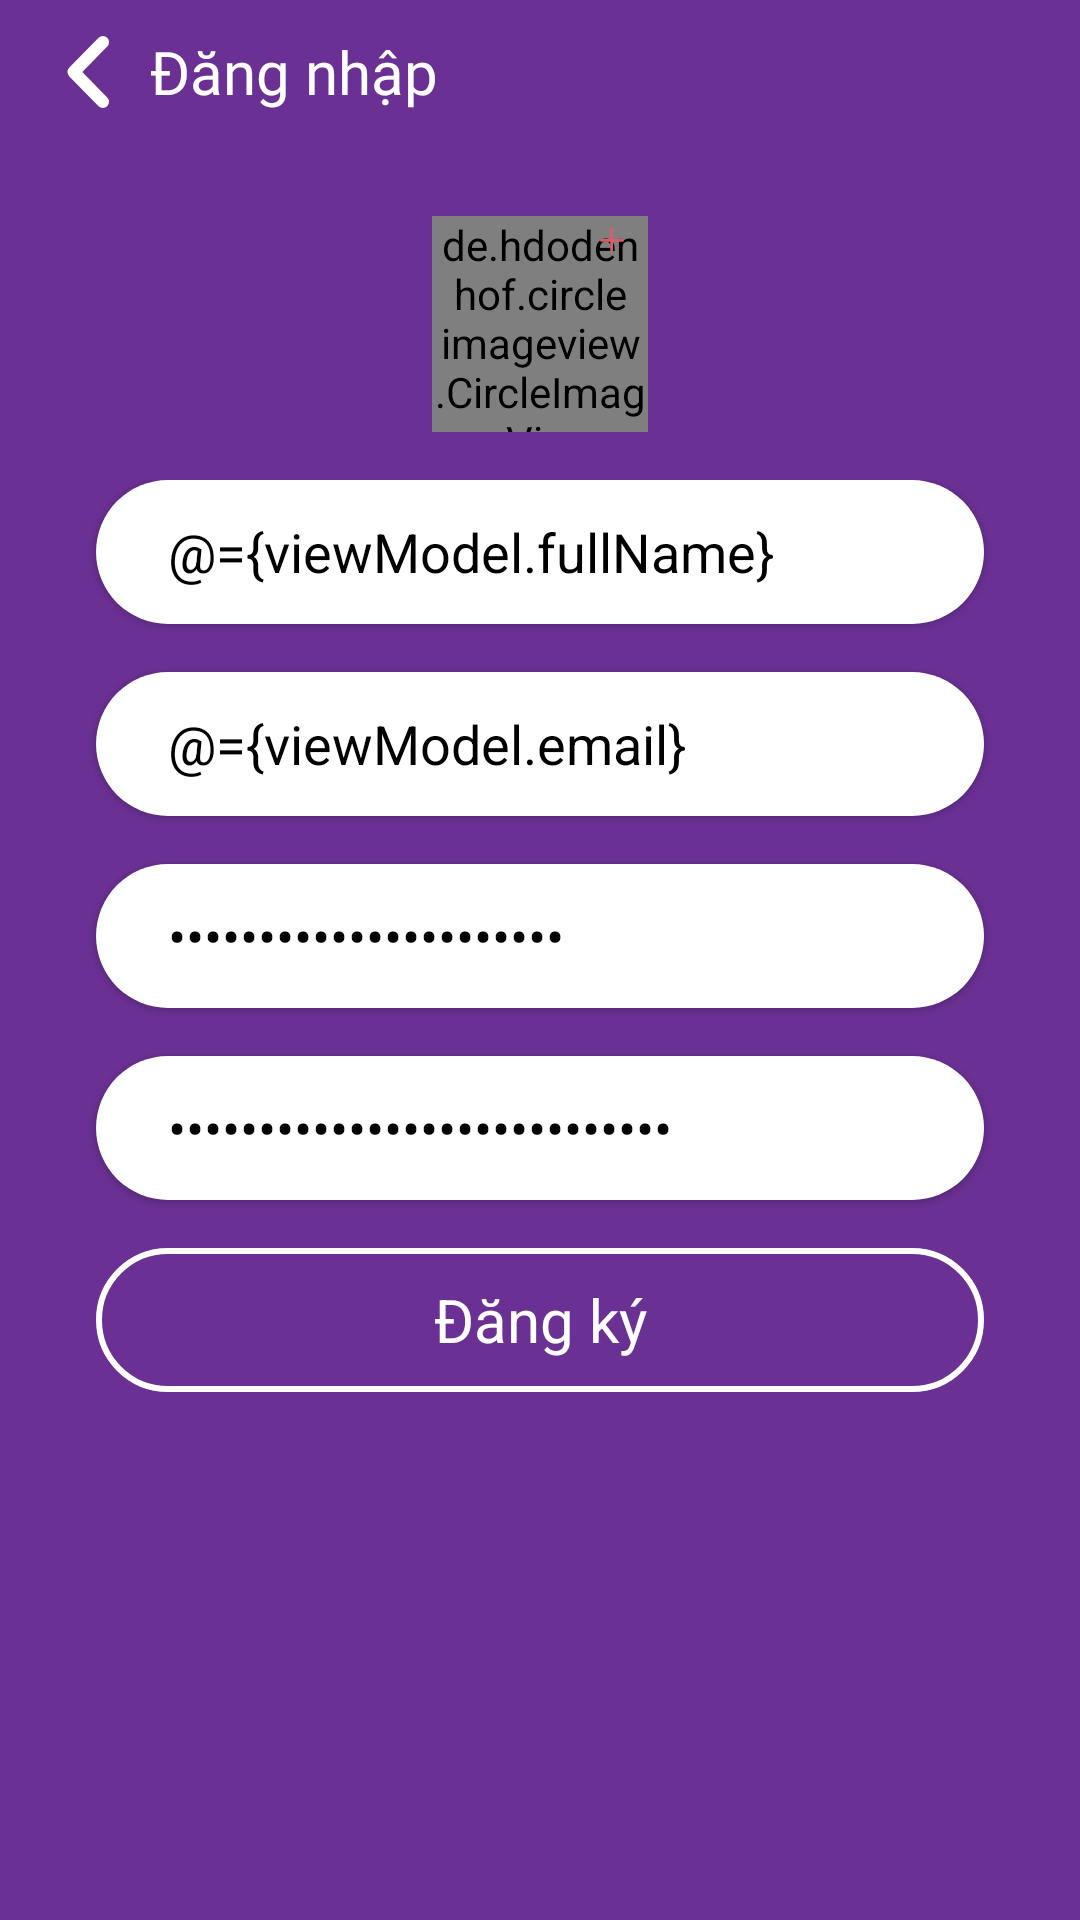

Where icons sit on this 1080 × 1920 app screen, as (x1, y1, x2, y2):
arrow left: (67, 36, 109, 108)
